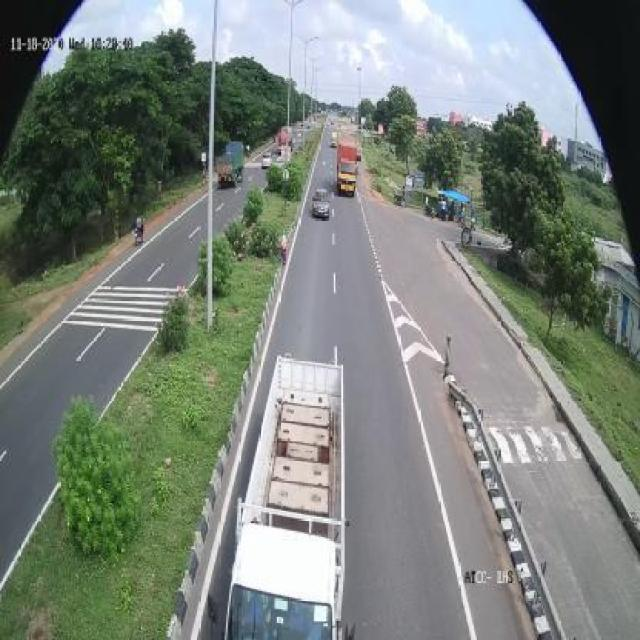car: (312, 182, 334, 224)
